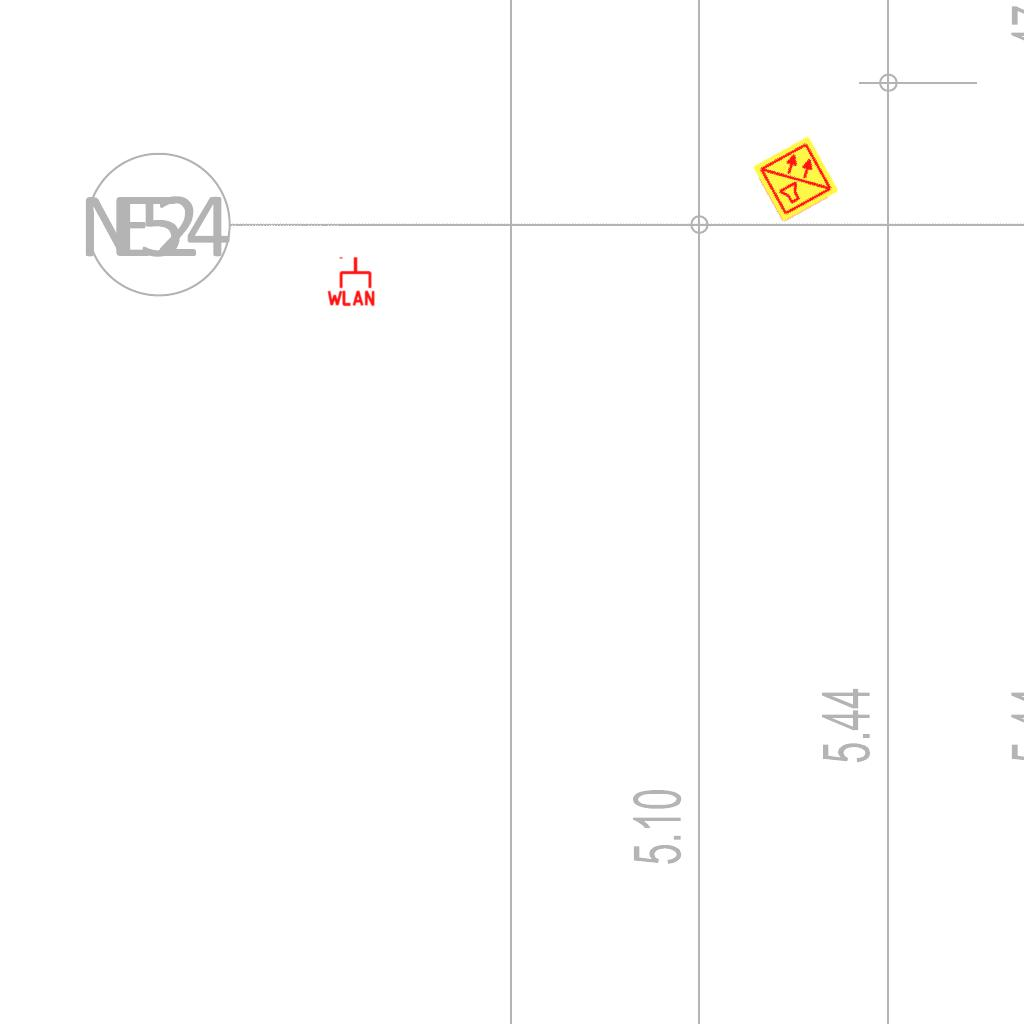OKW_Multisensormelder_(Kombination_optischer_Rauch-Kahlenmonoxid_Waerme-Melder): (751, 134, 841, 224)
WLAN: (325, 255, 377, 307)
